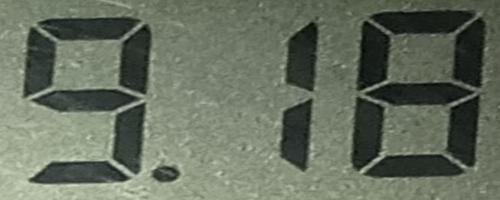.: (152, 162, 186, 187)
